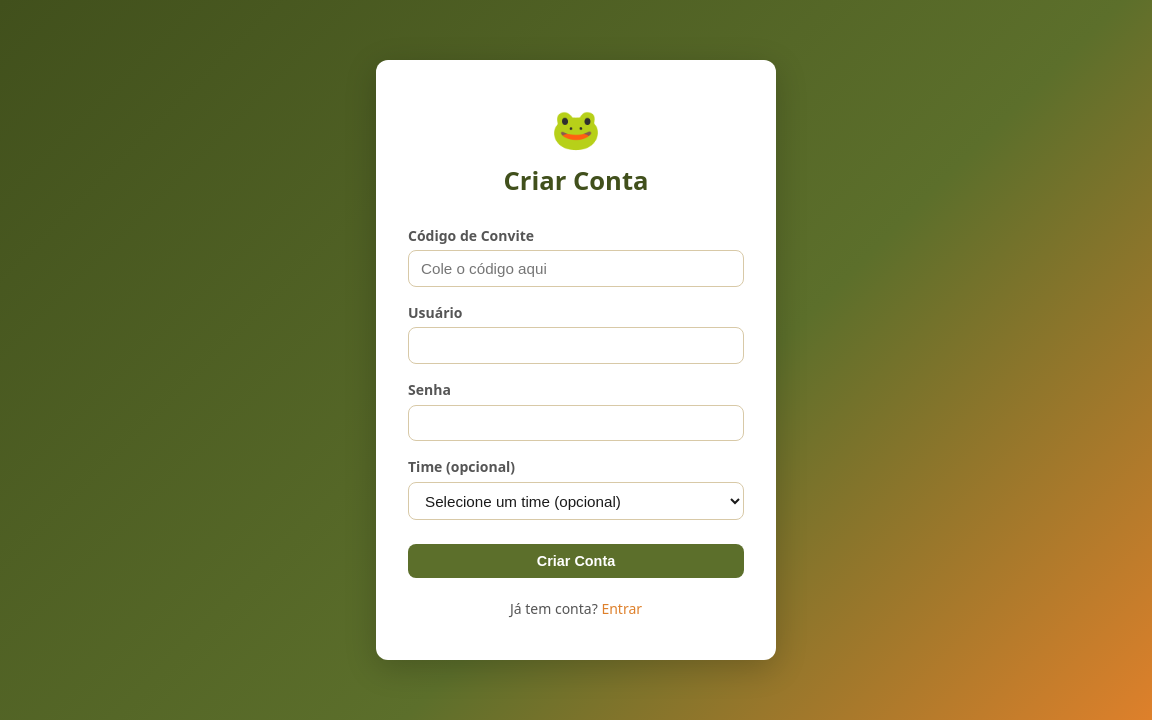
Test case: Autenticação › Registro › exibe erro com convite inválido
Type "invalidtoken" into the field with id "inviteToken" at (576, 269), box [408, 250, 744, 287]
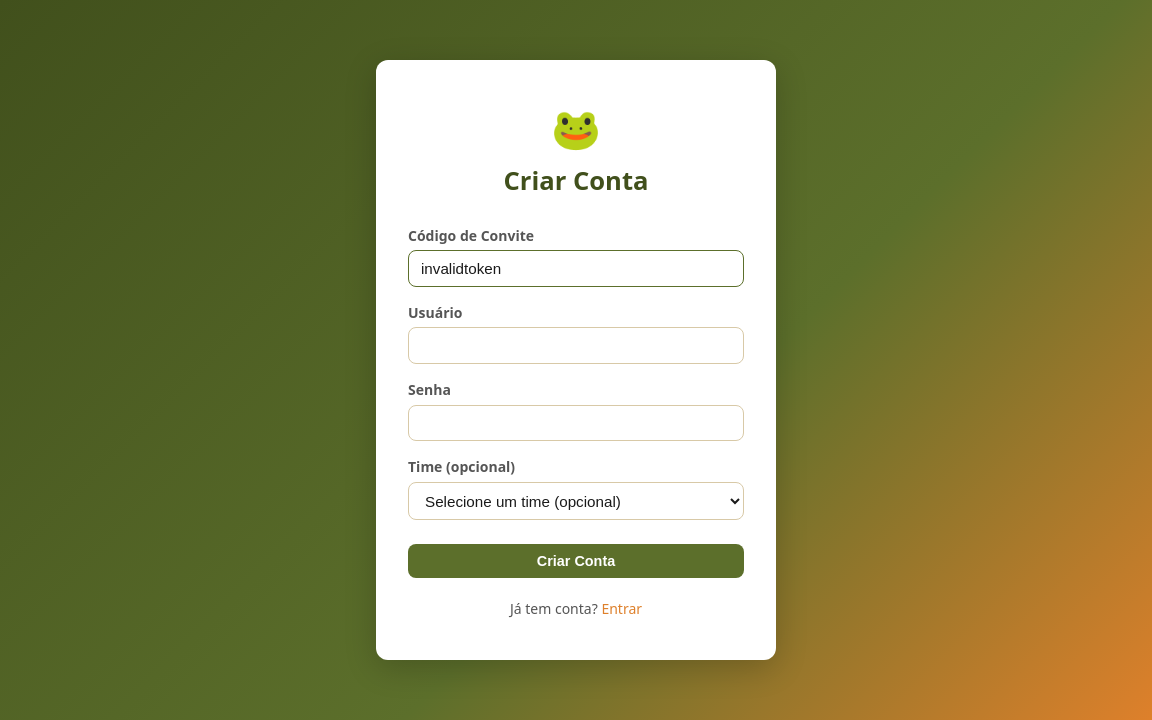
Type "newuser" into the field with id "username" at (576, 346), box [408, 327, 744, 364]
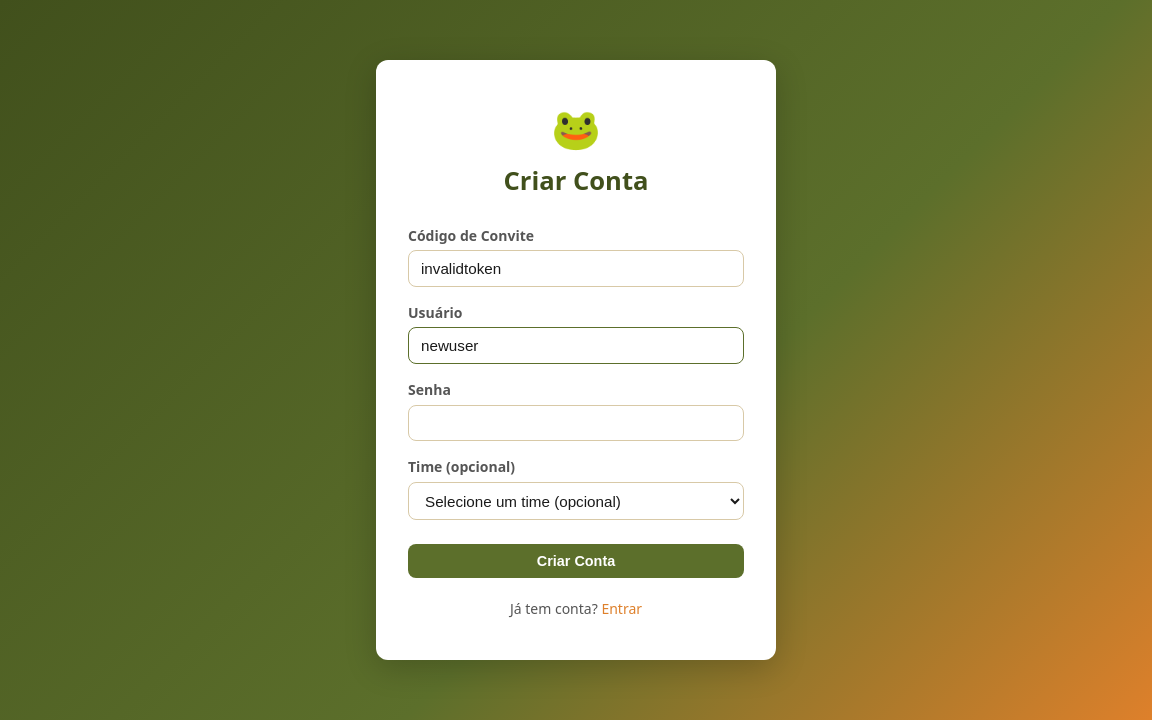
Type "password123" into the password field labelled "Senha" at (576, 424), box [408, 405, 744, 442]
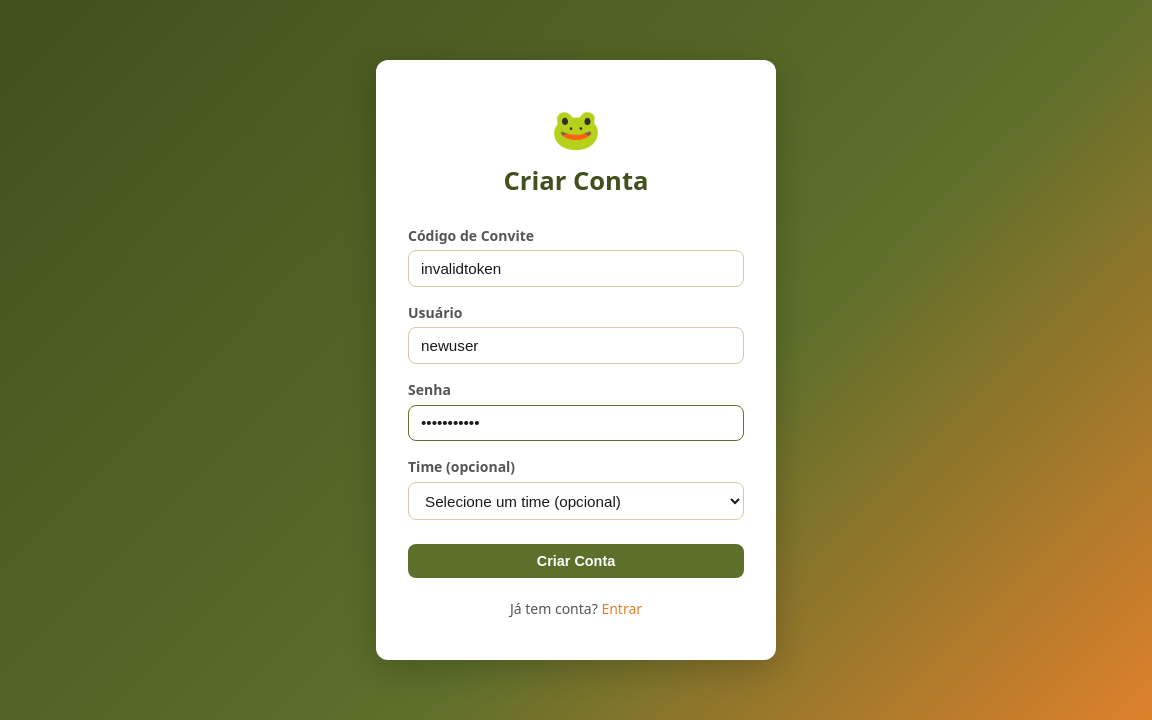
Click the submit button at (576, 561), box [408, 544, 744, 578]
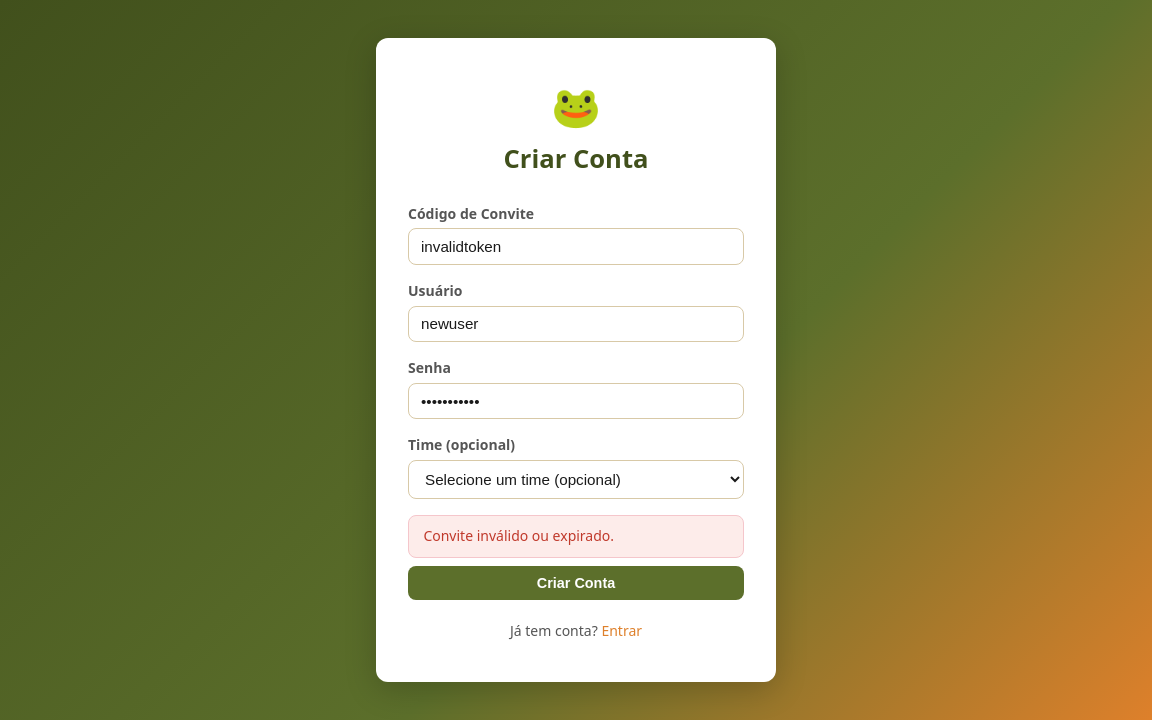
Expected: the message "Convite inválido ou expirado." is shown, [408, 515, 744, 558]
